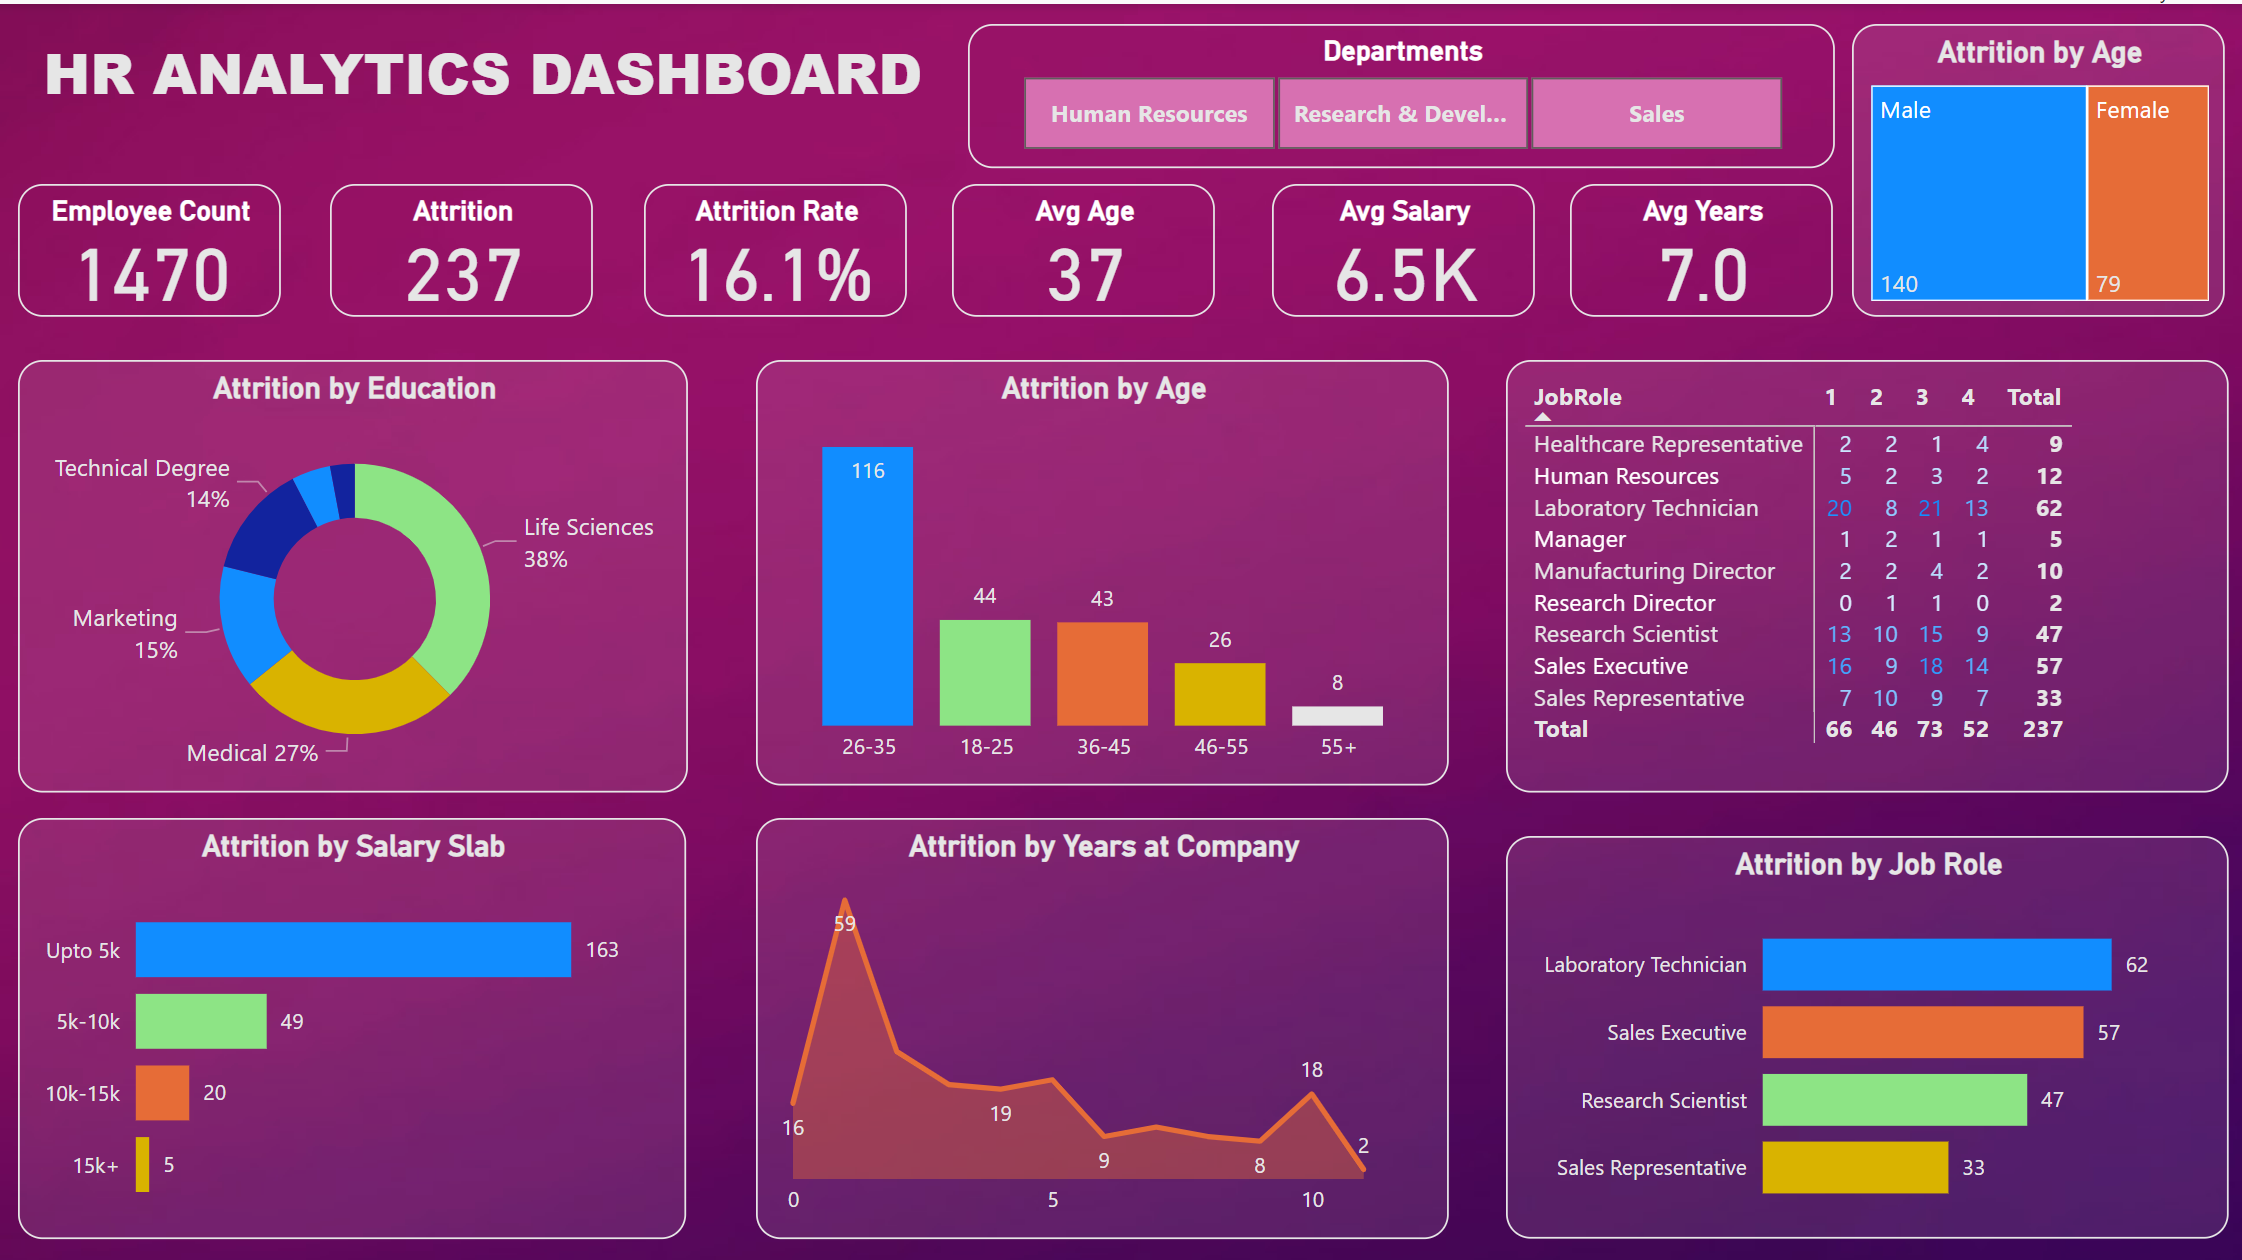

What the dashboard file says about the page in this screenshot:
{"tool":"powerbi","page":{"name":"Page 1","canvas":[1280,720],"ordinal":0},"visuals":[{"type":"card","title":"Employee Count","fields":{"Values":["CountNonNull(HR_Analytics.EmpID)"]},"box":[11.7,102.8,149.6,75.4],"z":0},{"type":"card","title":"Attrition","fields":{"Values":["Sum(HR_Analytics.AttritionCount)"]},"box":[188.6,102.8,149.6,75.4],"z":1000},{"type":"card","title":"Attrition Rate","fields":{"Values":["HR_Analytics.AttritionRate"]},"box":[366.8,102.8,149.6,75.4],"z":2000},{"type":"card","title":"Avg Age ","fields":{"Values":["Avg(HR_Analytics.Age)"]},"box":[542.4,102.8,149.6,75.4],"z":3000},{"type":"card","title":"Avg Salary","fields":{"Values":["Avg(HR_Analytics.MonthlyIncome)"]},"box":[724.6,102.8,149.6,75.4],"z":4000},{"type":"card","title":"Avg Years","fields":{"Values":["Avg(HR_Analytics.YearsAtCompany)"]},"box":[893.7,102.8,149.6,75.4],"z":5000},{"type":"donutChart","title":"Attrition by Education","fields":{"Category":["HR_Analytics.EducationField"],"Y":["Sum(HR_Analytics.AttritionCount)"]},"box":[11.7,202.9,381.1,245.9],"z":6000},{"type":"columnChart","title":"Attrition by Age","fields":{"Category":["HR_Analytics.AgeGroup"],"Y":["Sum(HR_Analytics.AttritionCount)"]},"box":[430.6,202.9,394.1,242],"z":7000},{"type":"pivotTable","fields":{"Rows":["HR_Analytics.JobRole"],"Columns":["HR_Analytics.JobSatisfaction"],"Values":["Sum(HR_Analytics.AttritionCount)"]},"box":[857.2,202.9,411.1,245.9],"z":8000},{"type":"barChart","title":"Attrition by Salary Slab","fields":{"Category":["HR_Analytics.SalarySlab"],"Y":["Sum(HR_Analytics.AttritionCount)"]},"box":[11.7,463.1,379.8,239.3],"z":9000},{"type":"barChart","title":"Attrition by Job Role","fields":{"Y":["Sum(HR_Analytics.AttritionCount)"],"Category":["HR_Analytics.JobRole"]},"box":[857.2,473.5,411.1,228.9],"z":10000},{"type":"areaChart","title":"Attrition by Years at Company","fields":{"Category":["HR_Analytics.YearsAtCompany"],"Y":["Sum(HR_Analytics.AttritionCount)"]},"box":[430.6,463.1,394.1,239.3],"z":11000},{"type":"treemap","title":"Attrition by Age","fields":{"Group":["HR_Analytics.Gender"],"Values":["Sum(HR_Analytics.AttritionCount)"]},"box":[1055,11.7,212,166.5],"z":12000},{"type":"slicer","title":"Departments","fields":{"Values":["HR_Analytics.Department"]},"box":[551.5,11.7,493,82],"z":13000},{"type":"textbox","box":[0,11.7,551.5,57.2],"z":14000}]}

Visuals, with their boxes in screenshot pixels (x1, y1, x2, y2), scaled from the page's 1280x720 canvas onto the 2242x1260 screenshot:
"Employee Count" card: 20 180 283 312
"Attrition" card: 330 180 592 312
"Attrition Rate" card: 642 180 905 312
"Avg Age " card: 950 180 1212 312
"Avg Salary" card: 1269 180 1531 312
"Avg Years" card: 1565 180 1827 312
"Attrition by Education" donutChart: 20 355 688 785
"Attrition by Age" columnChart: 754 355 1445 779
pivotTable - HR_Analytics.JobRole x HR_Analytics.JobSatisfaction: 1501 355 2222 785
"Attrition by Salary Slab" barChart: 20 810 686 1229
"Attrition by Job Role" barChart: 1501 829 2222 1229
"Attrition by Years at Company" areaChart: 754 810 1445 1229
"Attrition by Age" treemap: 1848 20 2219 312
"Departments" slicer: 966 20 1830 164
textbox: 0 20 966 121
